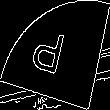P_S: (35, 26, 75, 84)
